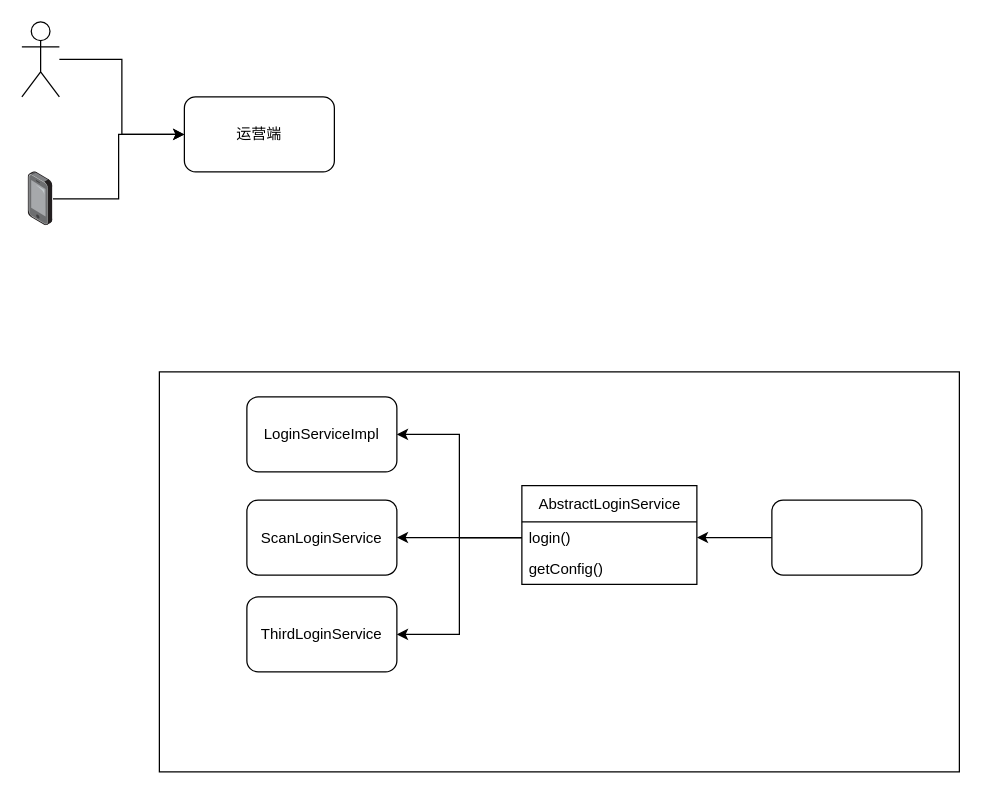
This 981x794 diagram has some shape labels left out. Each missing label, with the centre of its shape:
Actor: point (40, 59)
LoginService: point (846, 537)
